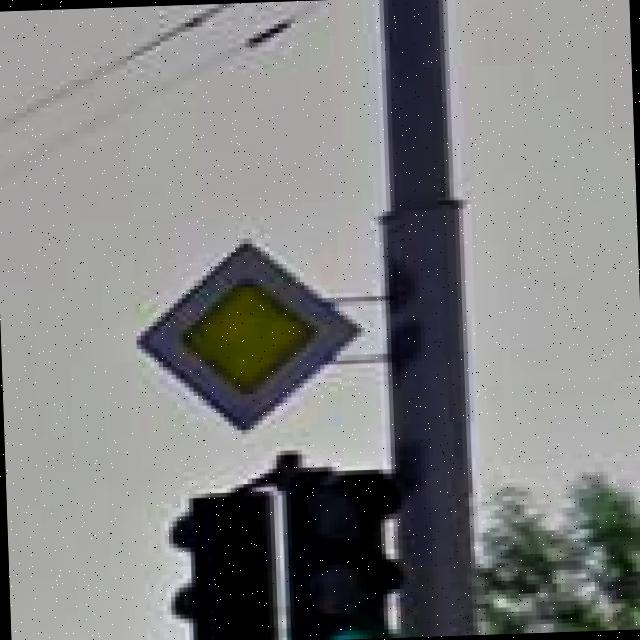Droga z pierwszenstwem: (133, 234, 364, 433)
